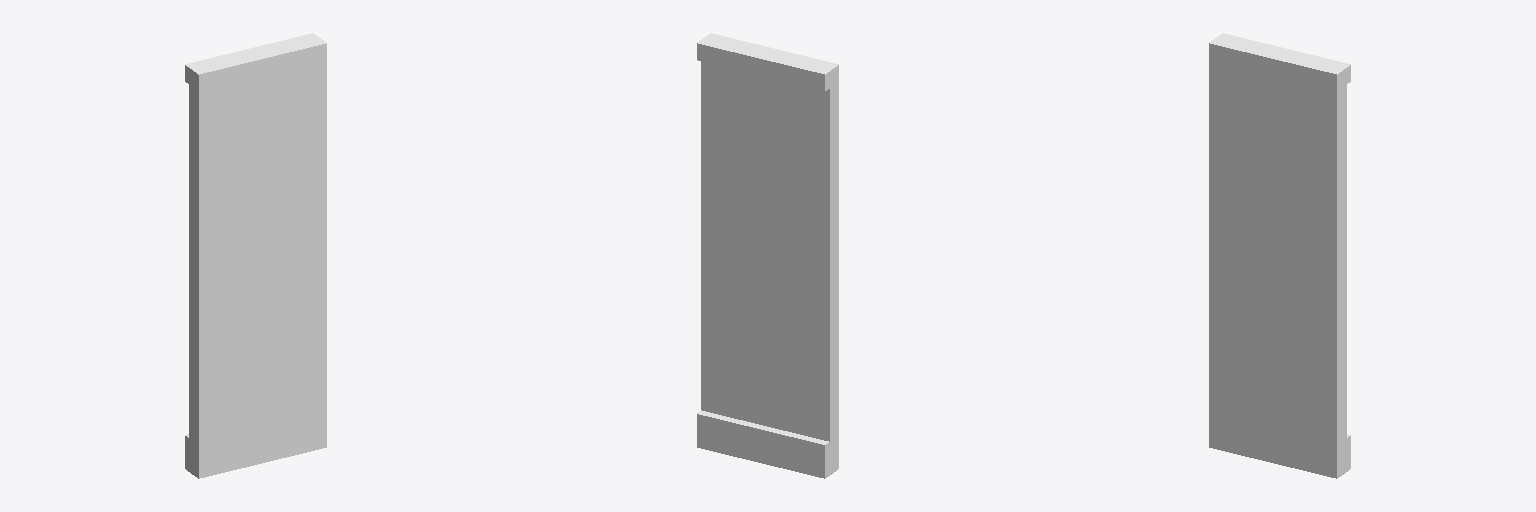
The model's file is WallsSimpleV1.obj.
The picture shows the model from 3 angles: view 1: azimuth 30°, elevation 25°; view 2: azimuth 150°, elevation 25°; view 3: azimuth 330°, elevation 25°; orthographic projection.
Visible parts, largest first — view 1: object 1; view 2: object 1; view 3: object 1.
Part boxes in pixels (bbox=[...]): object 1: bbox=[185, 33, 326, 478]; object 1: bbox=[697, 33, 838, 478]; object 1: bbox=[1209, 33, 1350, 478].
Size of the model in its own units: 1.6 by 4.8 by 0.3.